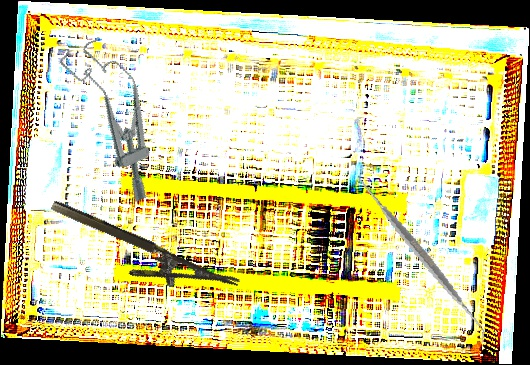Needle Holder: (39, 197, 241, 317)
Spatula Surgical: (332, 167, 512, 345)
Speculum: (56, 29, 180, 207)
